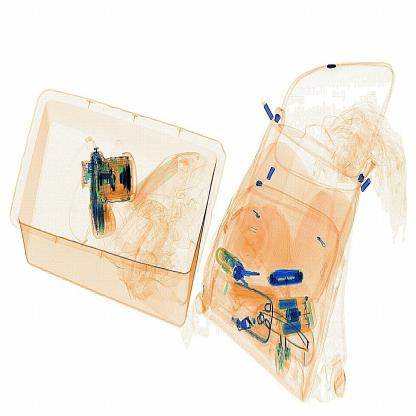scissors: (267, 269, 310, 288)
